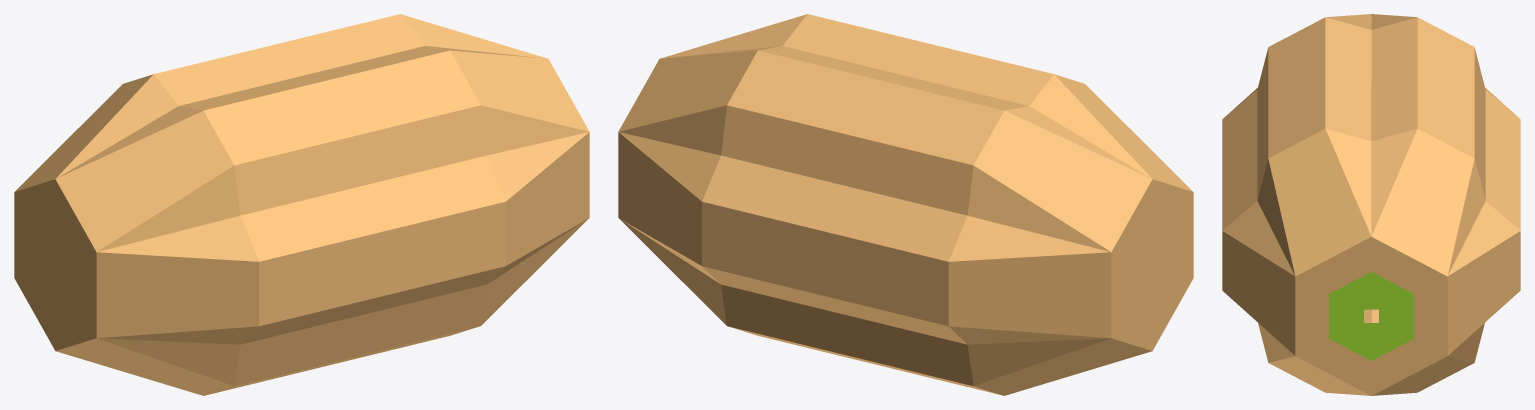
The model's file is Seed.fbx.
3 renders of one model, left to right at view 1: azimuth 30°, elevation 25°; view 2: azimuth 150°, elevation 25°; view 3: azimuth 270°, elevation 25°, orthographic. The views are drawn at different scales.
Visible parts, largest first — view 1: crop_pumpkin; view 2: crop_pumpkin; view 3: crop_pumpkin.
Part boxes in pixels (box(x1,y1,x2,y2)): crop_pumpkin: box(14, 14, 589, 395); crop_pumpkin: box(618, 14, 1193, 395); crop_pumpkin: box(1222, 14, 1520, 395).
Size of the model in its own units: 5.99 by 3.31 by 3.39.
